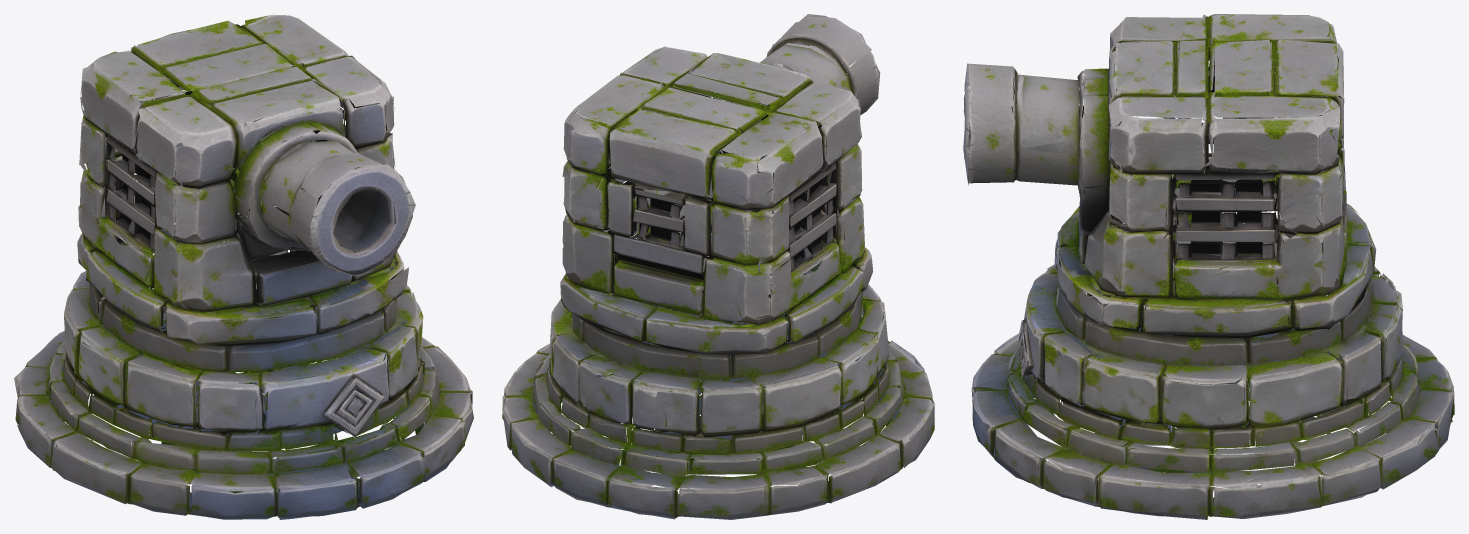
File: Tower01.glb
The picture shows the model from 3 angles, left to right: view 1: azimuth 30°, elevation 25°; view 2: azimuth 150°, elevation 25°; view 3: azimuth 270°, elevation 25°; orthographic projection. The views are drawn at different scales.
Parts seen in each view (by area): view 1: Stone_Cannon_Tower_Optimized_5K; view 2: Stone_Cannon_Tower_Optimized_5K; view 3: Stone_Cannon_Tower_Optimized_5K.
Boxes of the visible parts, x1,y1,x2,y2 form: Stone_Cannon_Tower_Optimized_5K: [14, 14, 473, 519]; Stone_Cannon_Tower_Optimized_5K: [502, 14, 934, 519]; Stone_Cannon_Tower_Optimized_5K: [963, 14, 1454, 519].
Bounding box in the file's own units: 0.8884 × 0.767 × 0.9461.
Materials: 1 (1 with a texture image).
